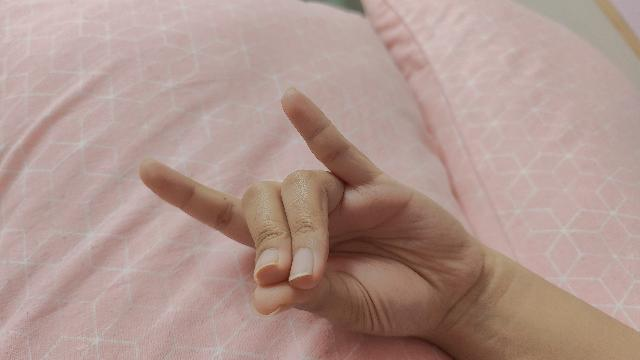sinhamukh: (136, 88, 640, 360)
